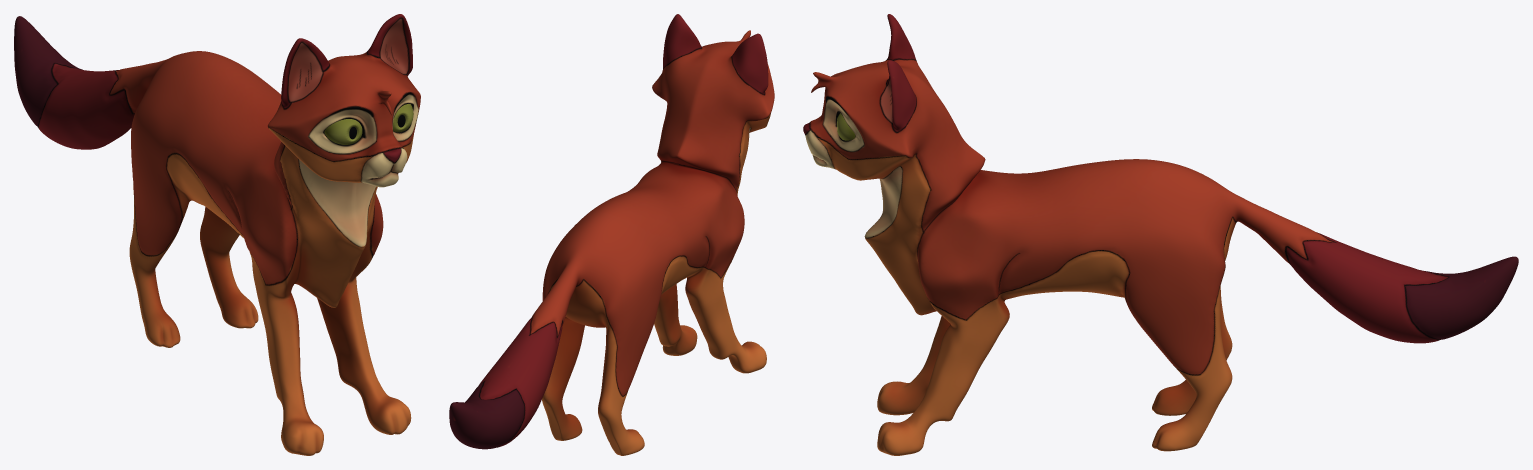
Rendered from Rusty_Model.fbx.
The picture shows the model from 3 angles, left to right: view 1: azimuth 30°, elevation 25°; view 2: azimuth 150°, elevation 25°; view 3: azimuth 270°, elevation 25°; orthographic projection. The views are drawn at different scales.
Parts seen in each view (by area): view 1: rusty_medpoly, eyes; view 2: rusty_medpoly; view 3: rusty_medpoly.
Boxes of the visible parts, bbox=[...] form: rusty_medpoly: bbox=[14, 14, 420, 455]; eyes: bbox=[324, 104, 413, 144]; rusty_medpoly: bbox=[449, 14, 774, 455]; rusty_medpoly: bbox=[803, 14, 1518, 455].
Size of the model in its own units: 2.84 by 7.74 by 12.74.
2 materials, 2 textured.
